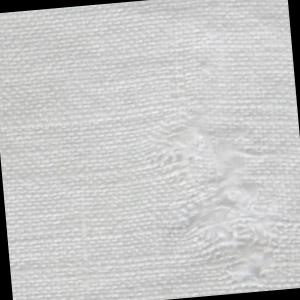Damage: (137, 94, 299, 300)
